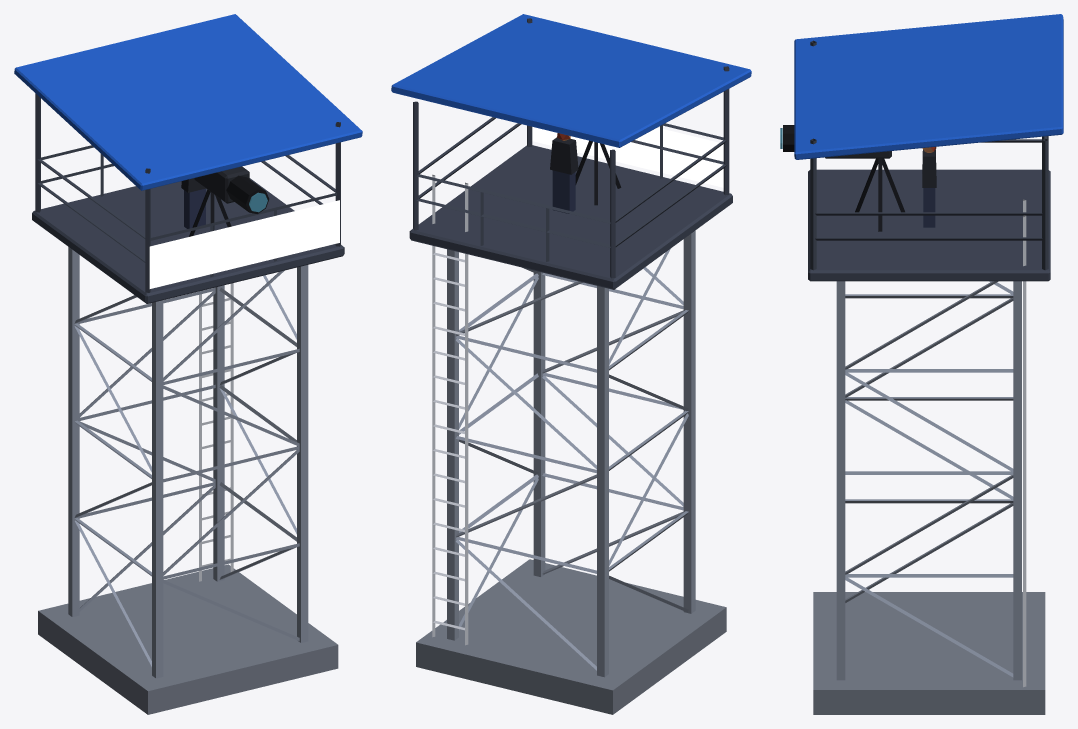
Rendered from camera-tower.glb.
The picture shows the model from 3 angles, left to right: view 1: azimuth 30°, elevation 25°; view 2: azimuth 150°, elevation 25°; view 3: azimuth 270°, elevation 25°; orthographic projection. The views are drawn at different scales.
Visible parts, largest first — view 1: camera-tower; view 2: camera-tower; view 3: camera-tower.
Part boxes in pixels (x1,y1,x2,y2): camera-tower: (14,14,362,714); camera-tower: (391,14,751,714); camera-tower: (780,14,1063,714).
Size of the model in its own units: 4.9 by 11.91 by 5.13.
3 materials, 2 textured.
